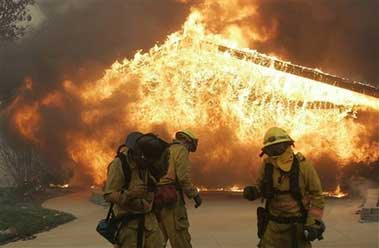fire: (106, 5, 373, 160)
